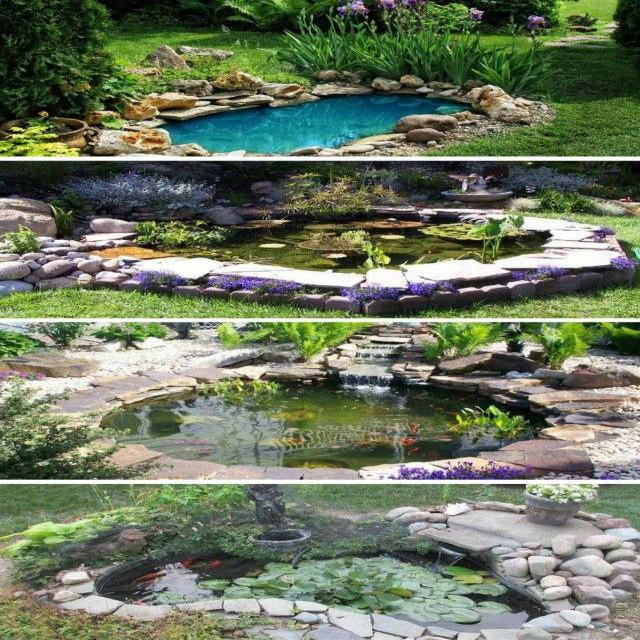Ponds: (18, 329, 640, 485), (35, 519, 640, 640), (1, 201, 640, 313), (79, 68, 565, 159)
